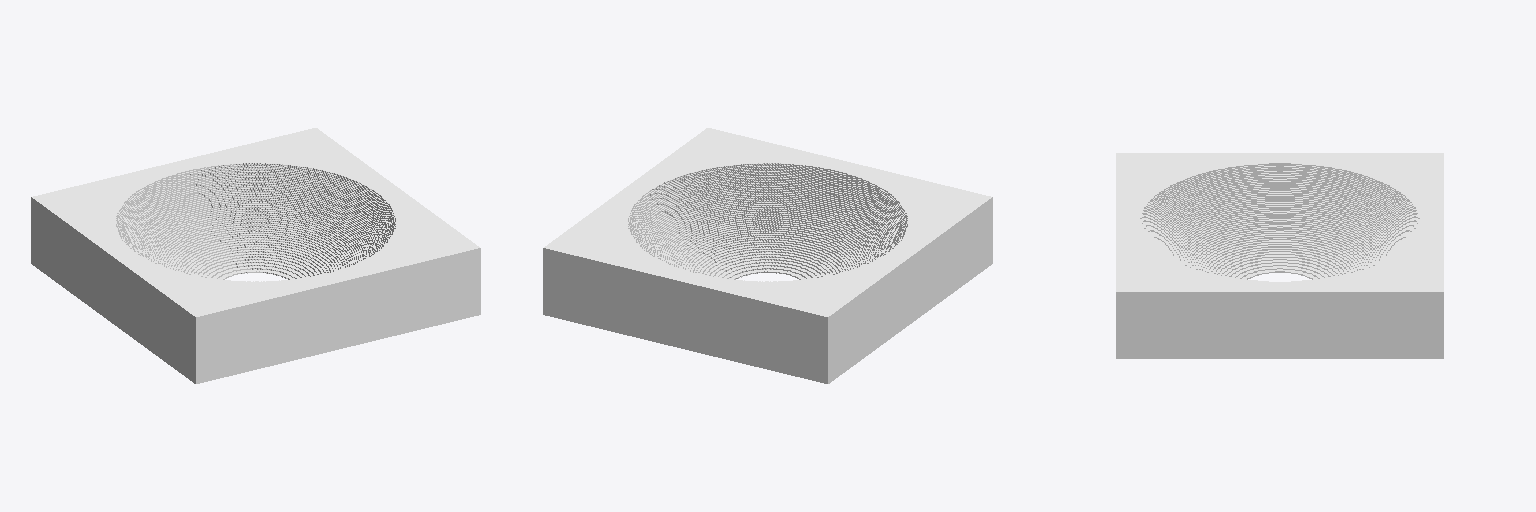
Rendered from Arena2.obj.
3 views of the same model, side by side, from view 1: azimuth 30°, elevation 25°; view 2: azimuth 150°, elevation 25°; view 3: azimuth 270°, elevation 25° (orthographic).
Visible parts, largest first — view 1: object 1; view 2: object 1; view 3: object 1.
Boxes of the visible parts, x1,y1,x2,y2 form: object 1: [31, 128, 480, 383]; object 1: [543, 128, 992, 383]; object 1: [1116, 153, 1443, 358].
Bounding box in the file's own units: 24 × 5.4 × 24.